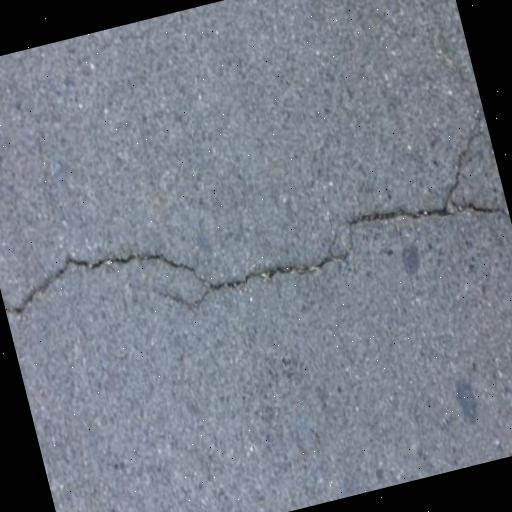spalling: (11, 107, 491, 328)
